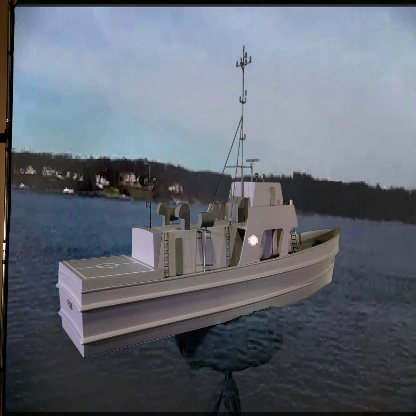YP689: (55, 42, 342, 366)
